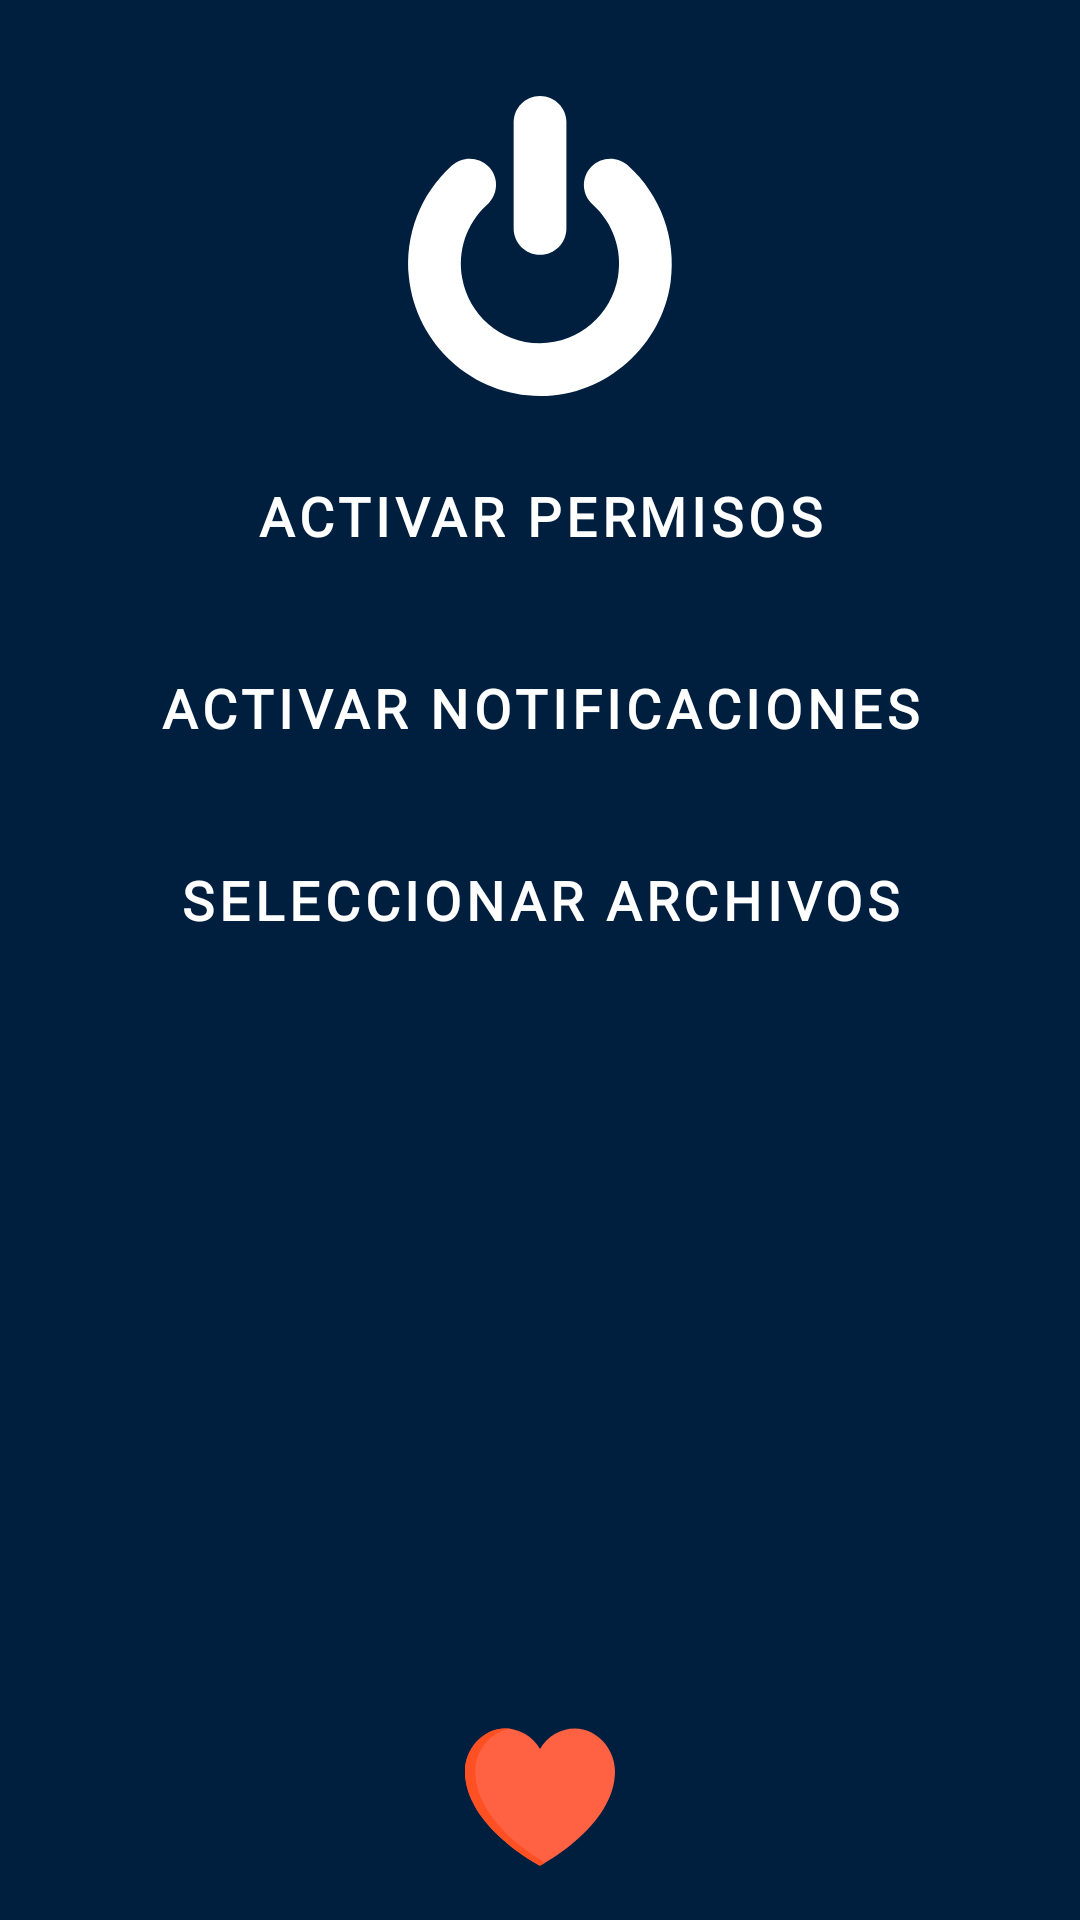

Point at icon controls on the screen. Image size 1080w x 1920h, points as (x,y).
heart: (540,1797)
turn off: (540,246)
